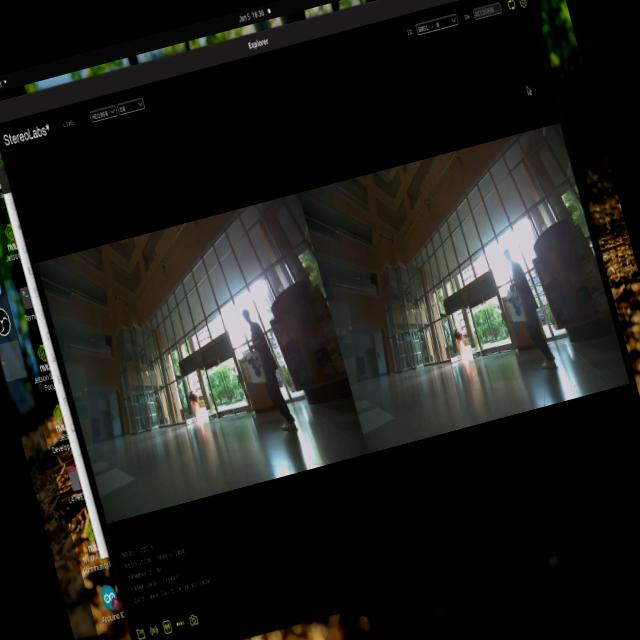blue: (246, 350, 274, 384), (505, 288, 526, 322)
